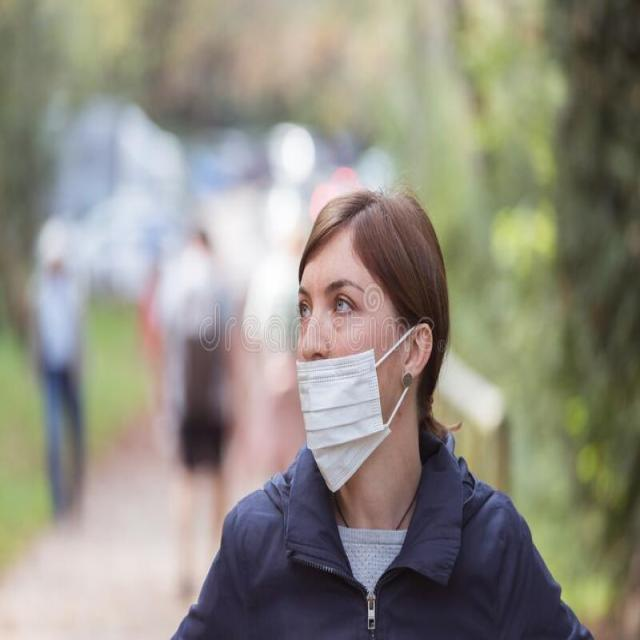hairnet: (296, 191, 453, 464)
